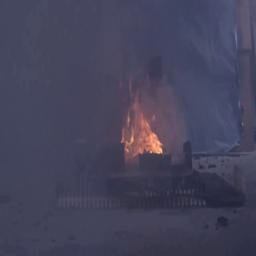fire: (118, 102, 164, 168)
